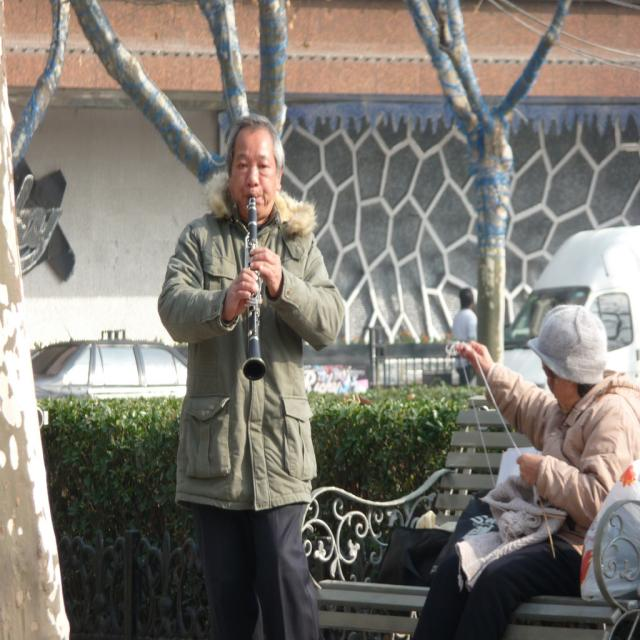clarinet: (240, 194, 268, 382)
